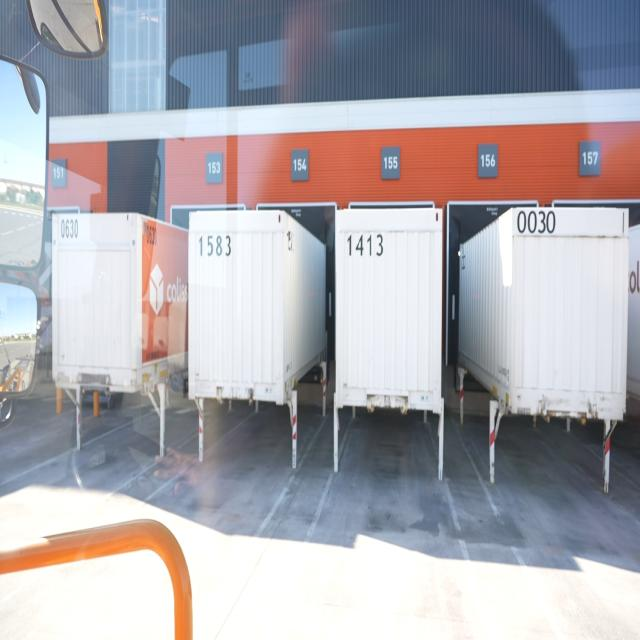Code: (514, 206, 557, 239), (342, 230, 387, 260), (198, 228, 232, 258), (56, 213, 84, 243)
